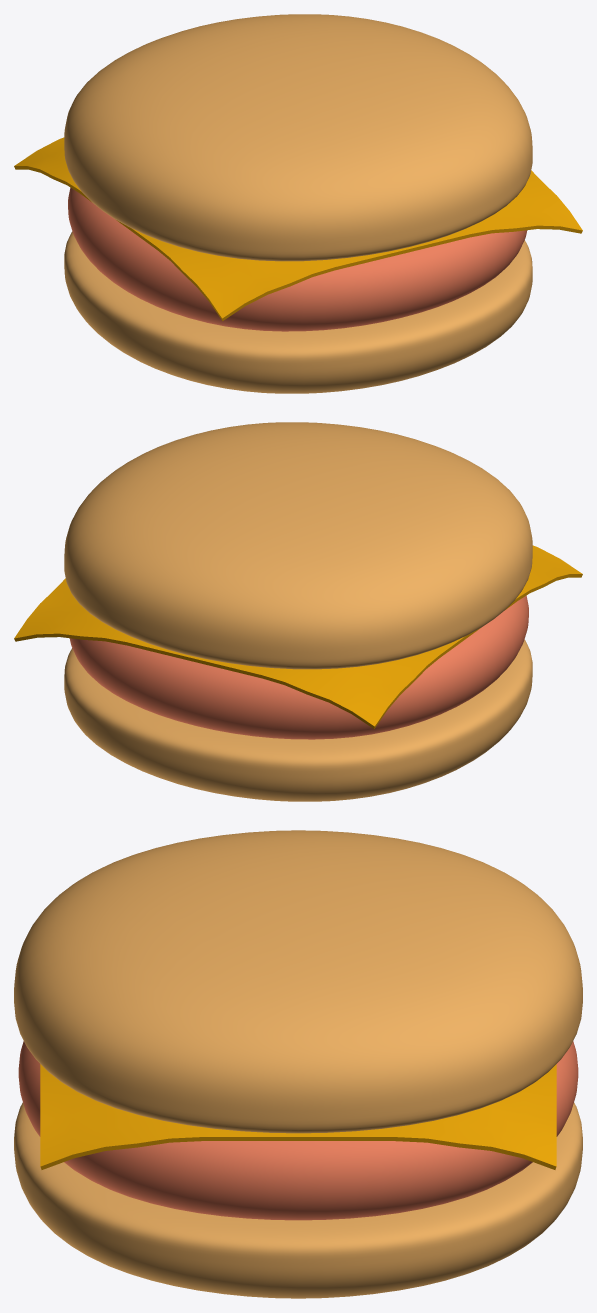
Rendered from hamburger.glb.
3 views of the same model, one above another, from view 1: azimuth 30°, elevation 25°; view 2: azimuth 150°, elevation 25°; view 3: azimuth 270°, elevation 25° (orthographic). The views are drawn at different scales.
Parts seen in each view (by area): view 1: Top Bun, Bottom bun, Burger, Cheese; view 2: Top Bun, Bottom bun, Burger, Cheese; view 3: Top Bun, Bottom bun, Burger, Cheese.
Part boxes in pixels (box(x1,y1,x2,y2)): Top Bun: box(64, 14, 532, 261); Bottom bun: box(64, 231, 532, 393); Burger: box(68, 187, 527, 331); Cheese: box(14, 137, 582, 320); Top Bun: box(64, 422, 532, 669); Bottom bun: box(64, 639, 532, 801); Burger: box(69, 595, 528, 739); Cheese: box(14, 545, 582, 728); Top Bun: box(14, 830, 582, 1133); Bottom bun: box(14, 1102, 582, 1298); Burger: box(18, 1041, 578, 1220); Cheese: box(40, 1064, 556, 1169).
Bounding box in the file's own units: 9.18 × 5.67 × 9.18.
